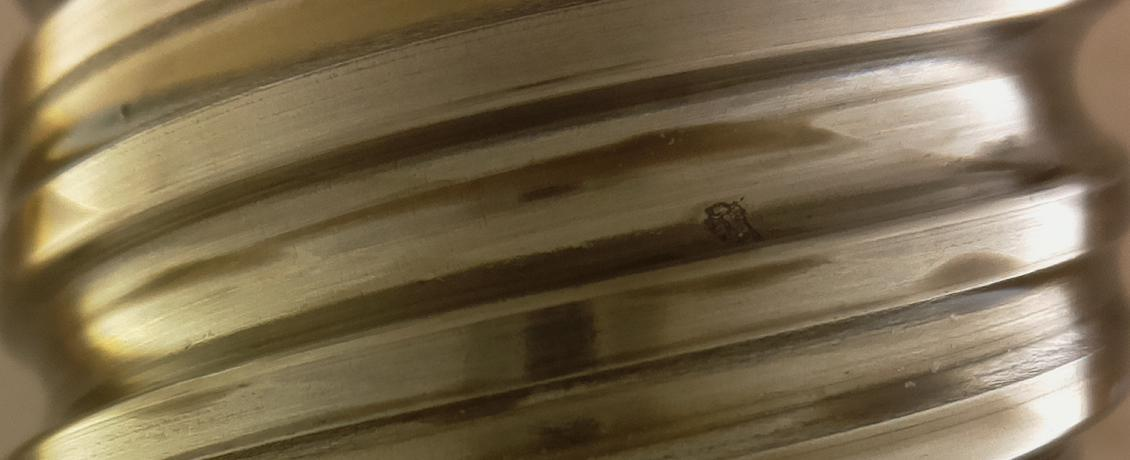pitting: (703, 195, 762, 250)
